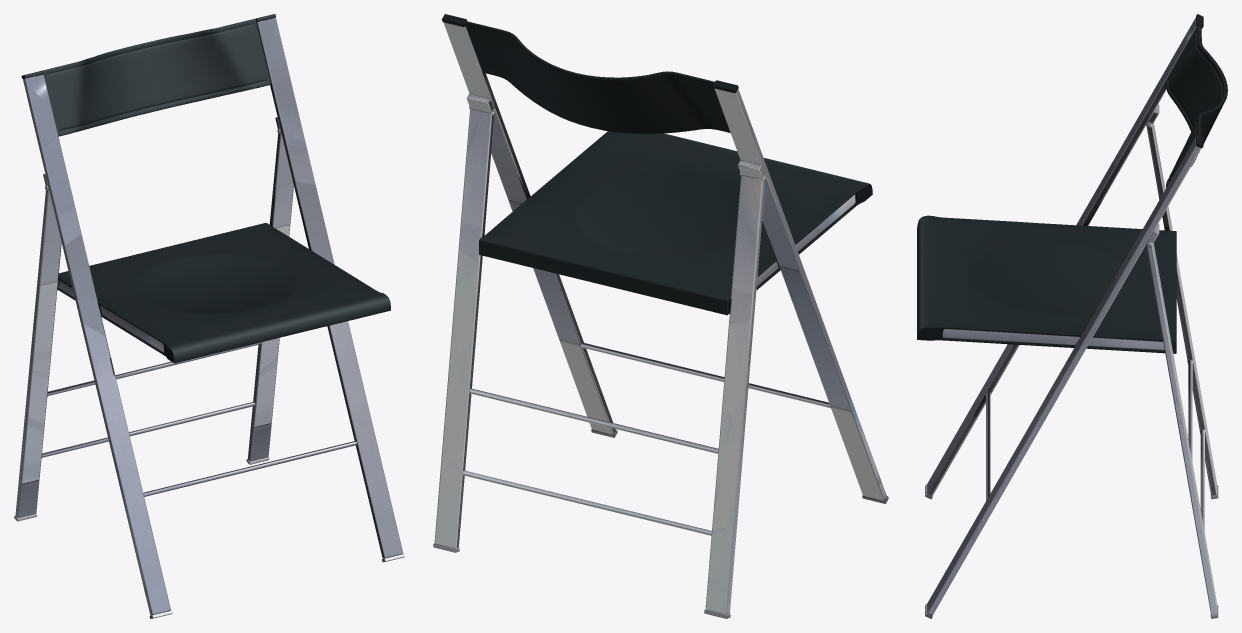
Rendered from sevilla.glb.
The picture shows the model from 3 angles, left to right: view 1: azimuth 30°, elevation 25°; view 2: azimuth 150°, elevation 25°; view 3: azimuth 270°, elevation 25°; orthographic projection. The views are drawn at different scales.
Parts seen in each view (by area): view 1: sevilla-black; view 2: sevilla-black; view 3: sevilla-black.
Boxes of the visible parts, left/top/right/bottom form: sevilla-black: left=14, top=14, right=404, bottom=618; sevilla-black: left=433, top=14, right=888, bottom=618; sevilla-black: left=917, top=14, right=1227, bottom=618.
Size of the model in its own units: 0.4571 by 0.7771 by 0.4601.
Materials: 1 (1 with a texture image).
